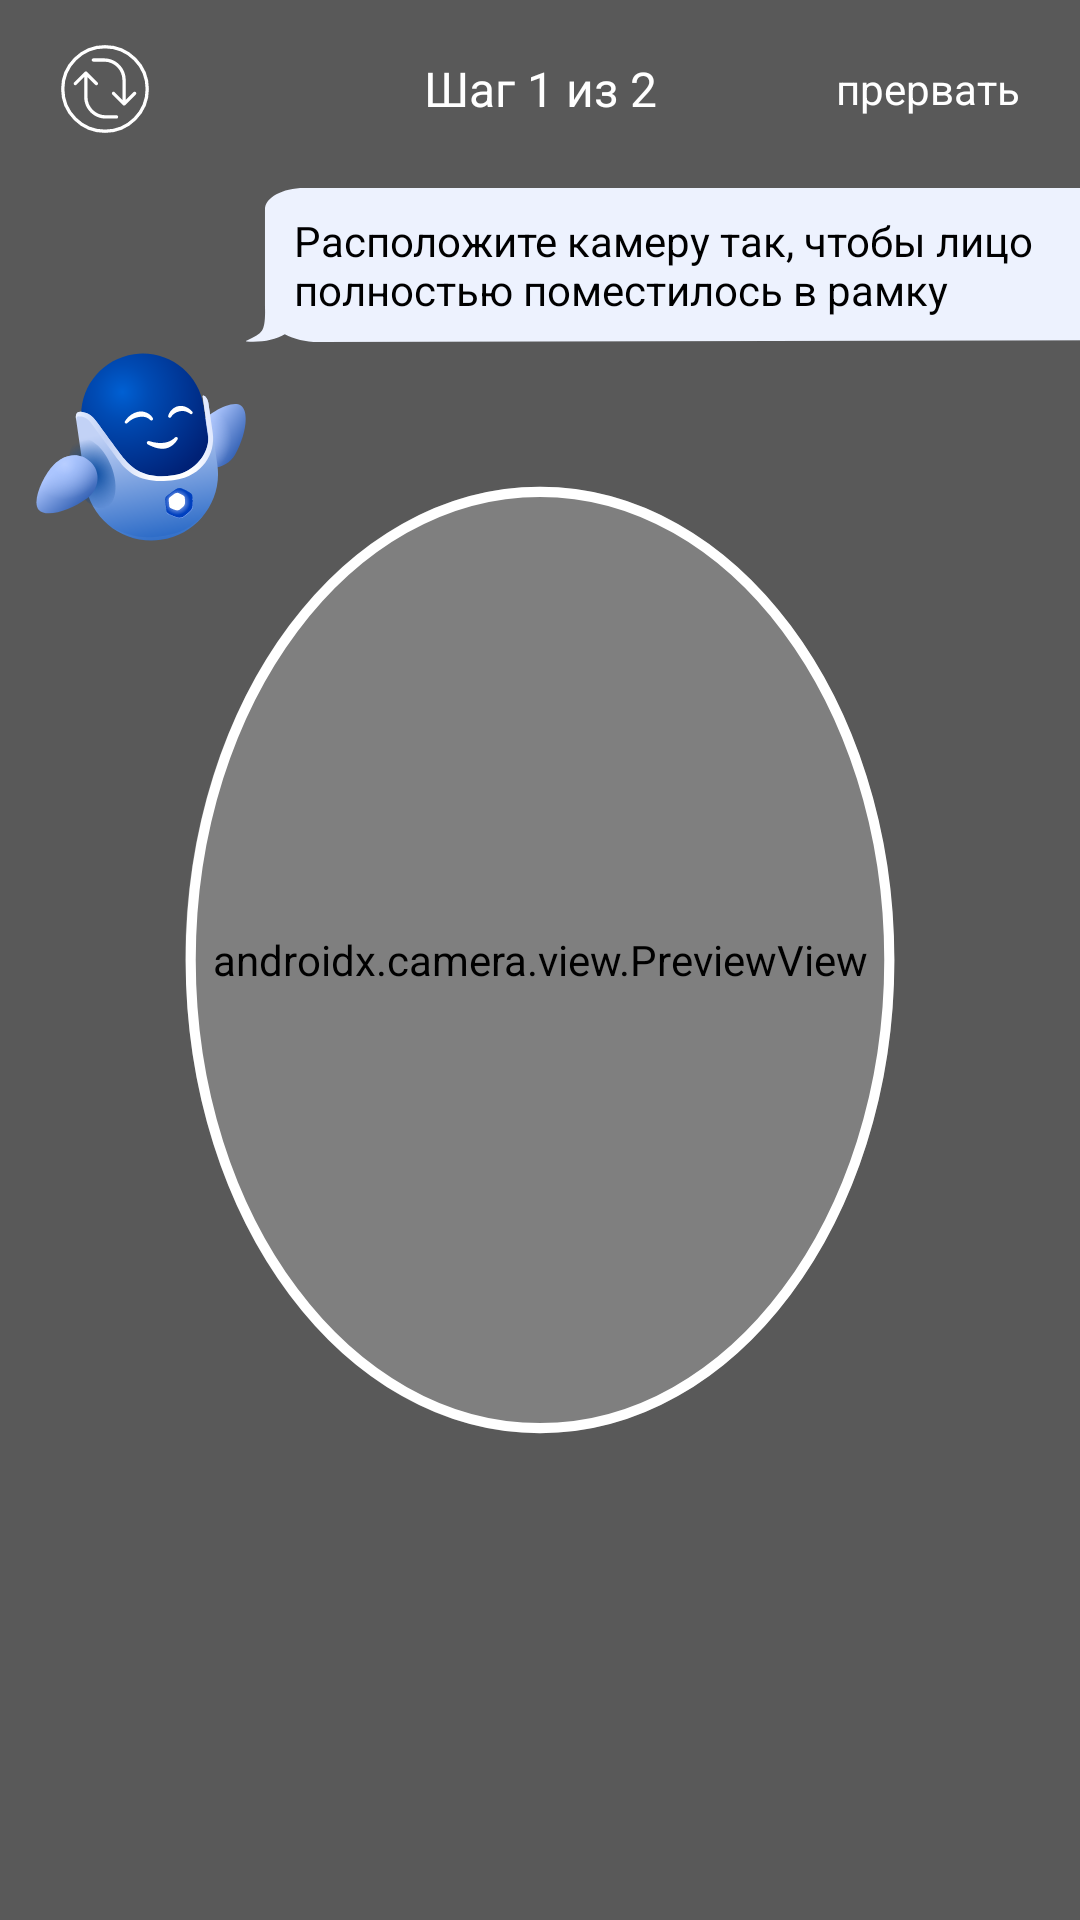

Icon click points for this 1080×1920 phone screenshot, format (x=x, y=y):
flip camera: (x=105, y=89)
